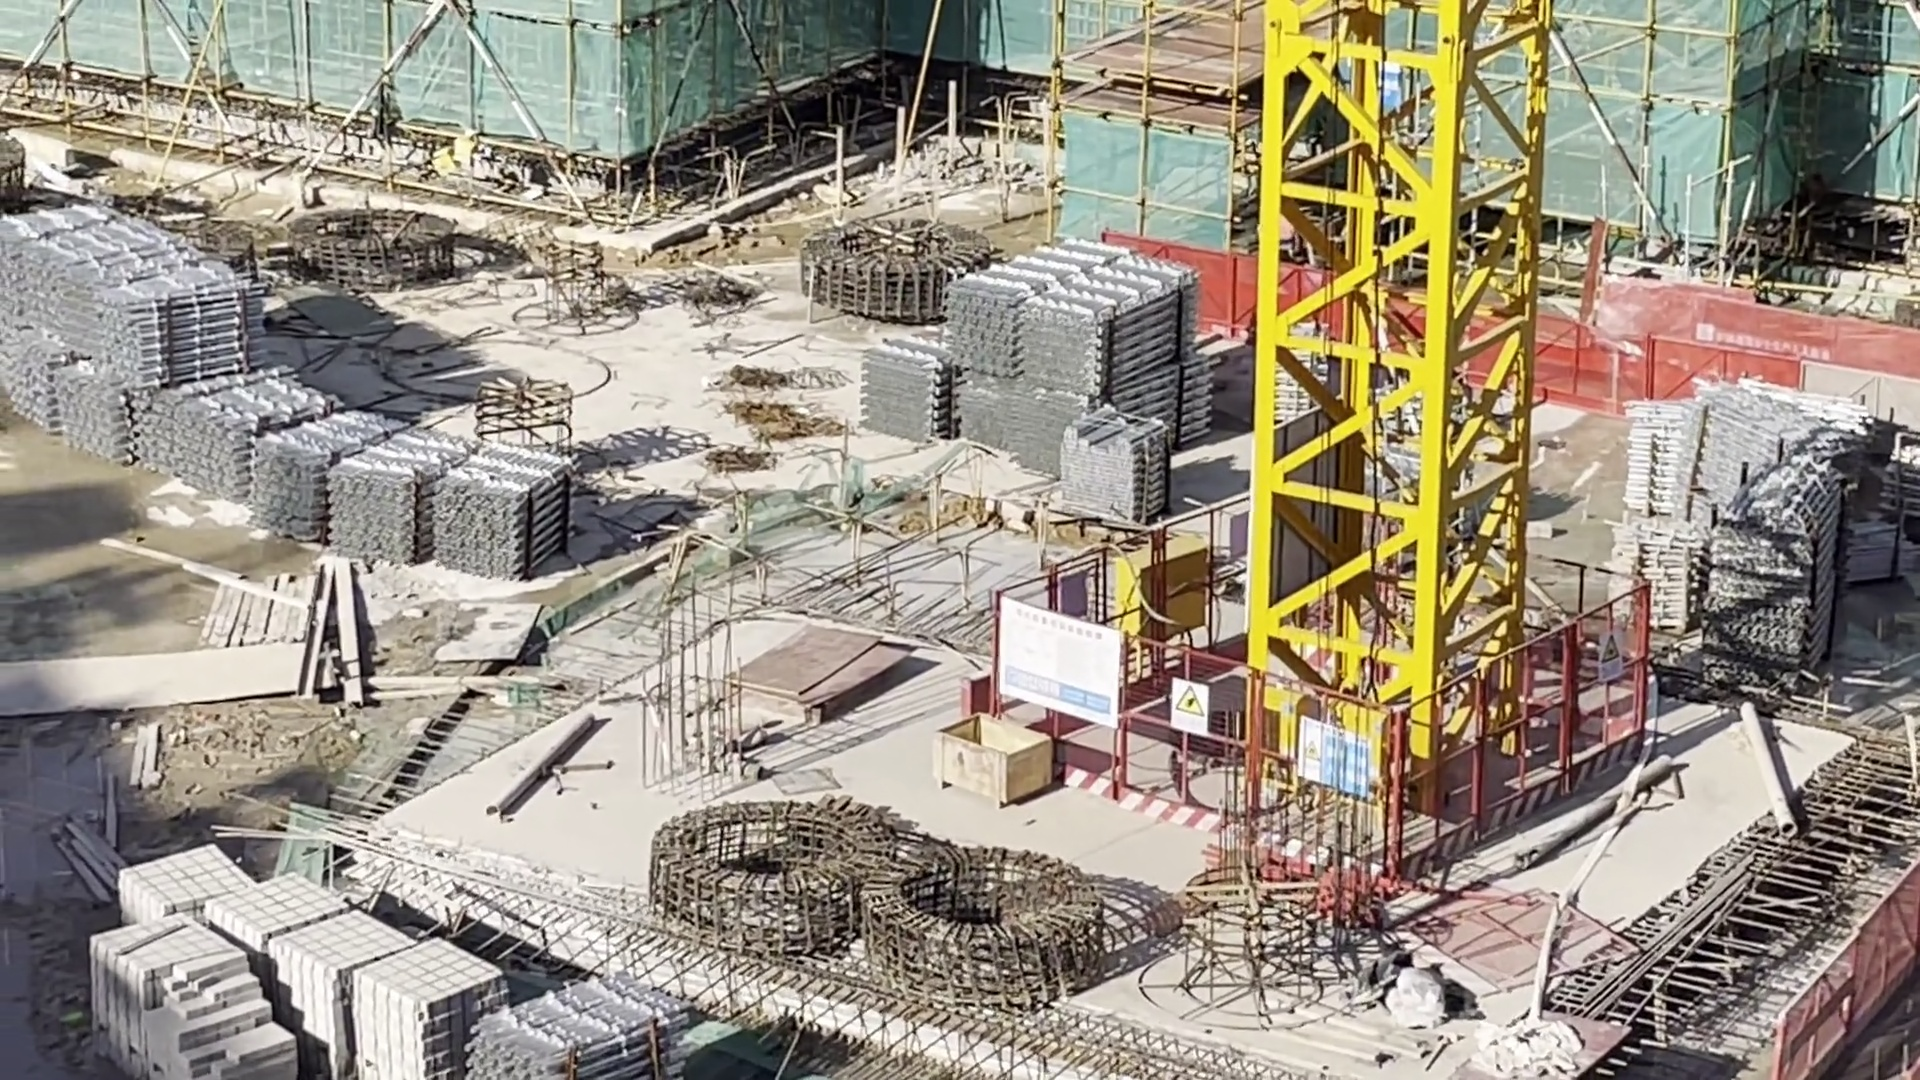board: (735, 636, 894, 715)
brick: (96, 855, 506, 1072)
ebox: (1124, 531, 1203, 646)
fence: (1539, 287, 1920, 422), (1778, 862, 1920, 1075)
scaffold: (1, 208, 261, 475), (1615, 404, 1854, 665), (944, 243, 1212, 468), (251, 411, 475, 566), (156, 375, 340, 497), (473, 980, 687, 1080), (429, 446, 574, 584), (1056, 406, 1170, 522), (862, 323, 953, 438)
slogan: (1298, 724, 1371, 791), (1170, 680, 1209, 737), (1597, 629, 1625, 680)
